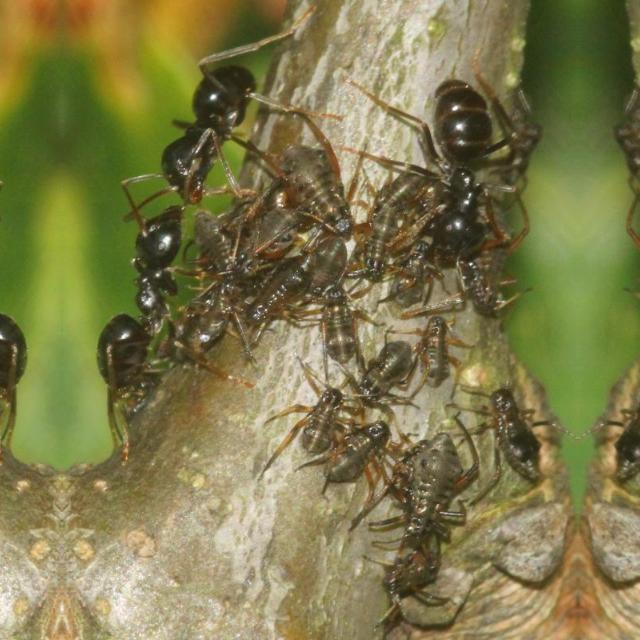Lasius: (123, 32, 293, 208), (73, 192, 185, 418), (410, 90, 520, 290), (0, 192, 50, 418)
